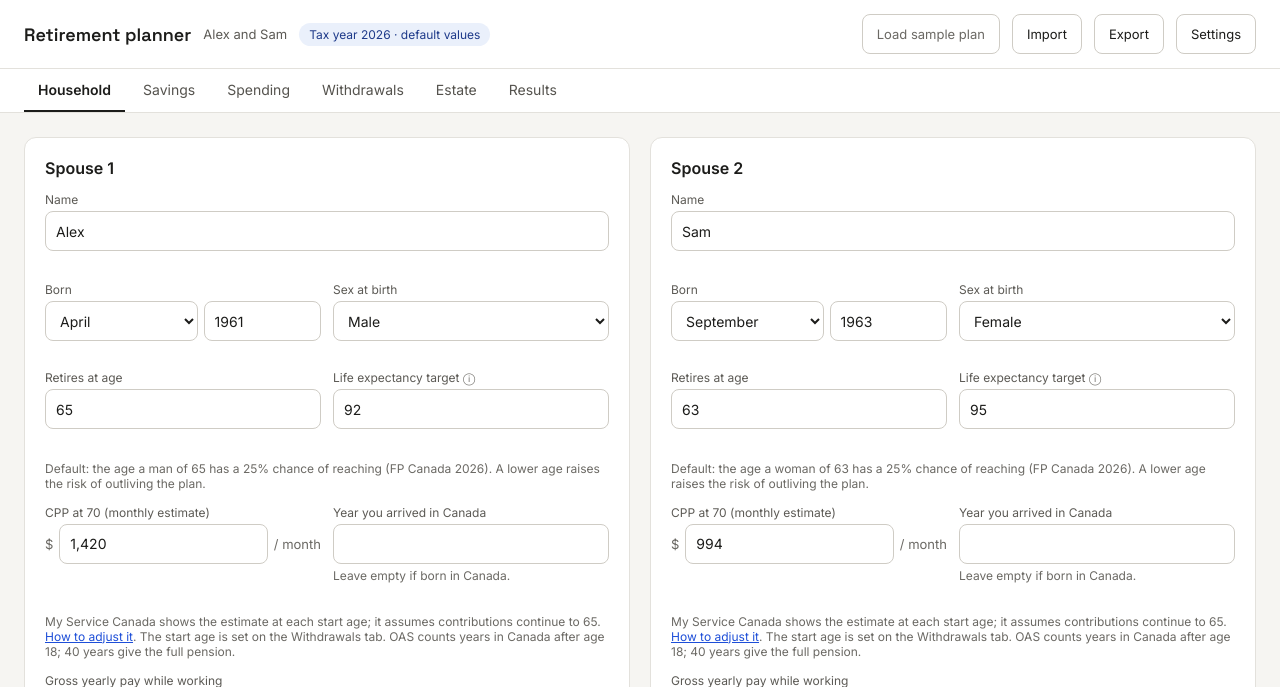
Test: Withdrawals › shows draw-down years when CPP and OAS start late
Step 1. Click the button "Withdrawals" → (363, 90), box [308, 69, 418, 112]
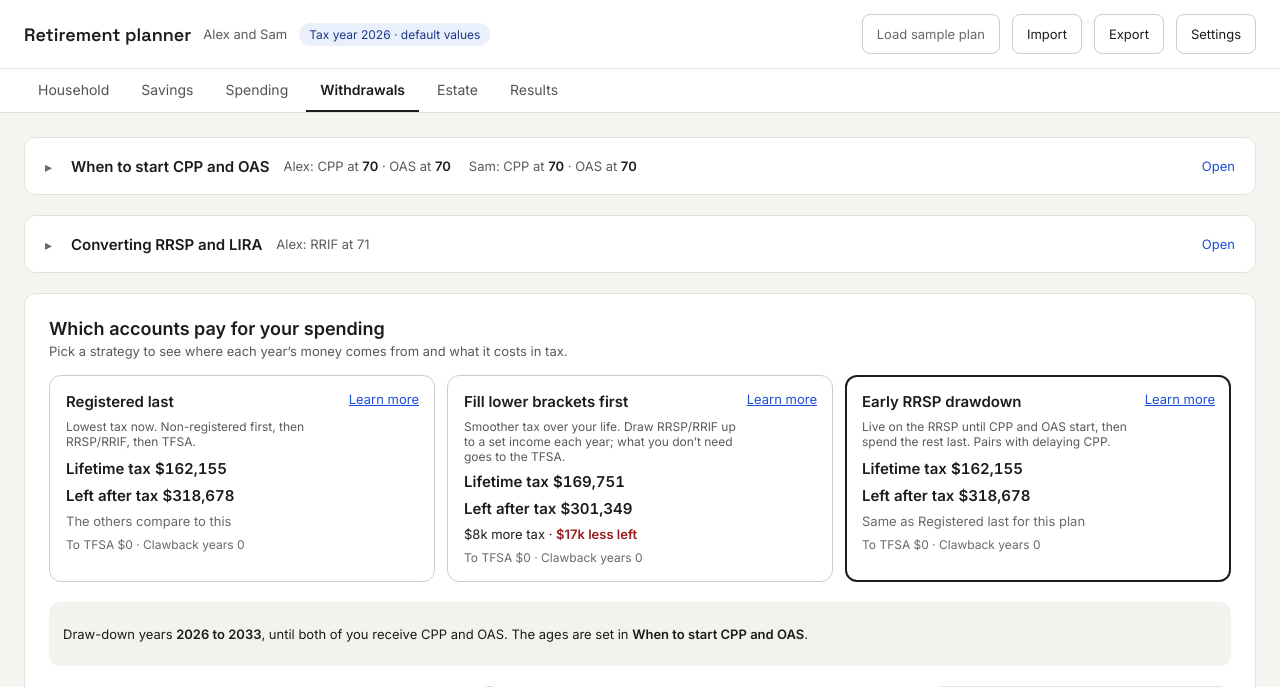
Now the text "Draw-down years" is shown, box [63, 626, 172, 642]
Now the text "until both of you receive CPP and OAS" is shown once, box [63, 626, 808, 642]
